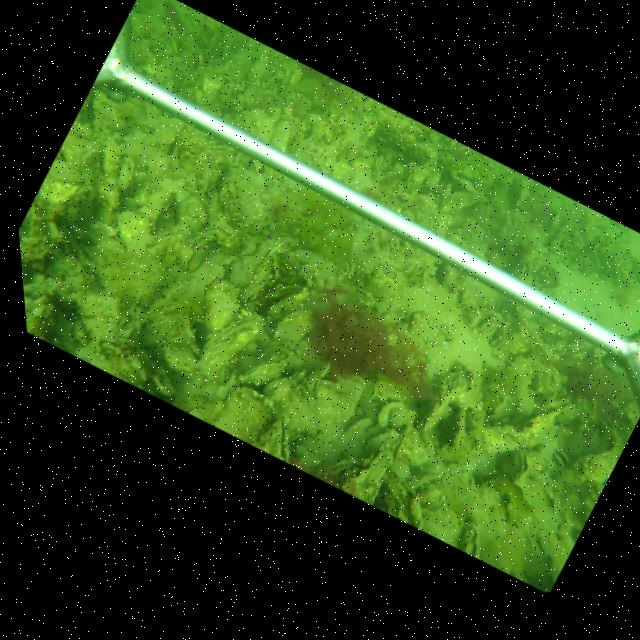Oyster-Closed: (193, 312, 265, 385), (237, 342, 299, 385), (341, 448, 390, 500), (416, 374, 459, 432), (245, 234, 286, 278), (521, 477, 558, 520), (271, 309, 314, 345), (92, 177, 120, 219), (498, 445, 529, 482), (445, 407, 467, 455), (306, 361, 331, 398), (317, 457, 362, 474), (195, 160, 222, 188), (287, 368, 304, 381)
Oyster-Indeterminate: (262, 377, 320, 437), (471, 416, 526, 455), (202, 278, 241, 331), (319, 385, 361, 432), (154, 124, 177, 152)
Oyster-Open: (254, 418, 295, 464), (459, 518, 481, 559)
